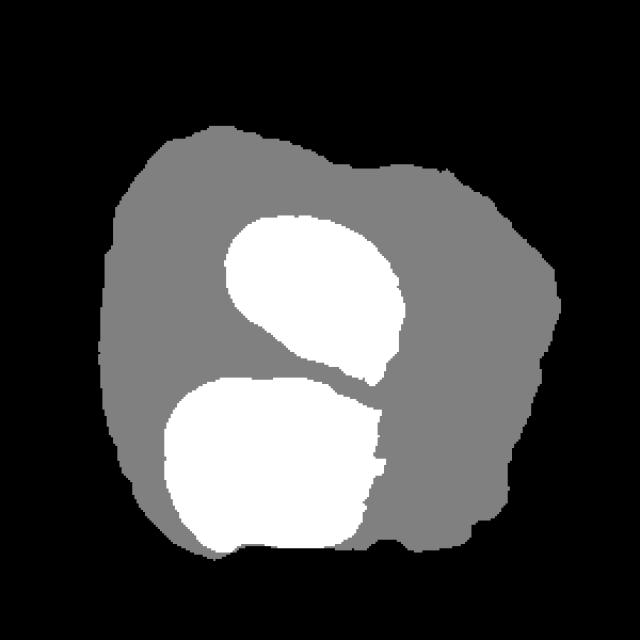WBC: (88, 111, 595, 593)
